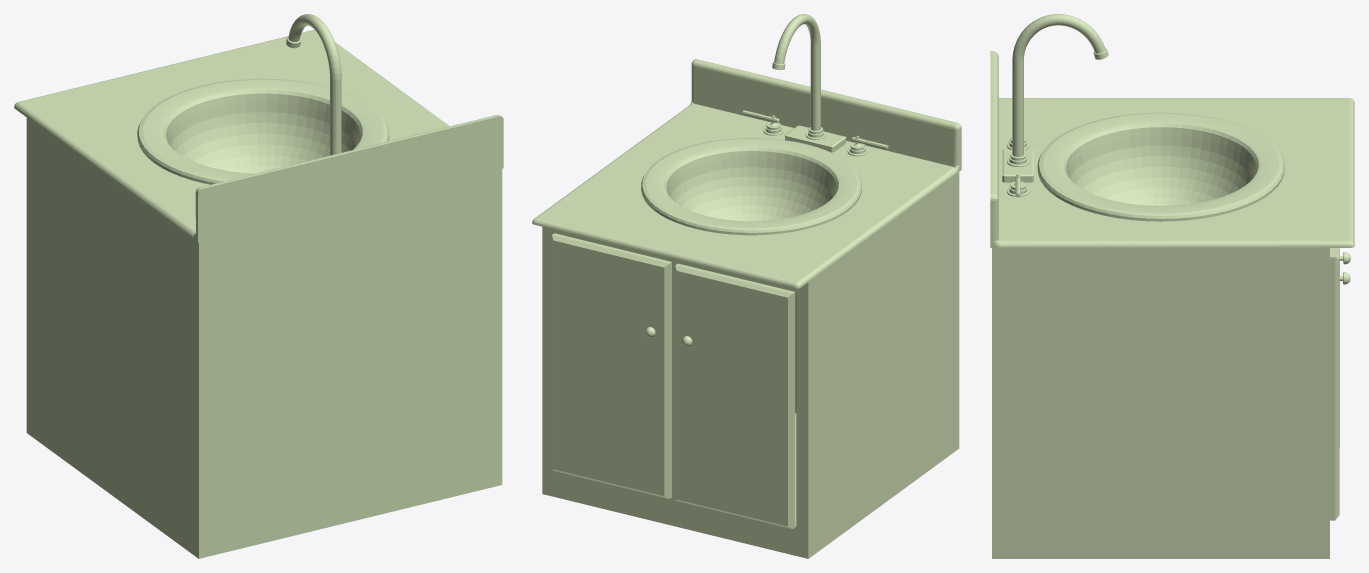
The model's file is faucet1.fbx.
3 views of the same model, side by side, from view 1: azimuth 30°, elevation 25°; view 2: azimuth 150°, elevation 25°; view 3: azimuth 270°, elevation 25° (orthographic). The views are drawn at different scales.
Parts seen in each view (by area): view 1: left d~23; view 2: left d~23; view 3: left d~23.
Part boxes in pixels (left/top/right/bottom): left d~23: left=14, top=14, right=503, bottom=558; left d~23: left=532, top=14, right=961, bottom=558; left d~23: left=990, top=14, right=1354, bottom=558.
Bounding box in the file's own units: 0.6944 × 0.7306 × 1.04.
